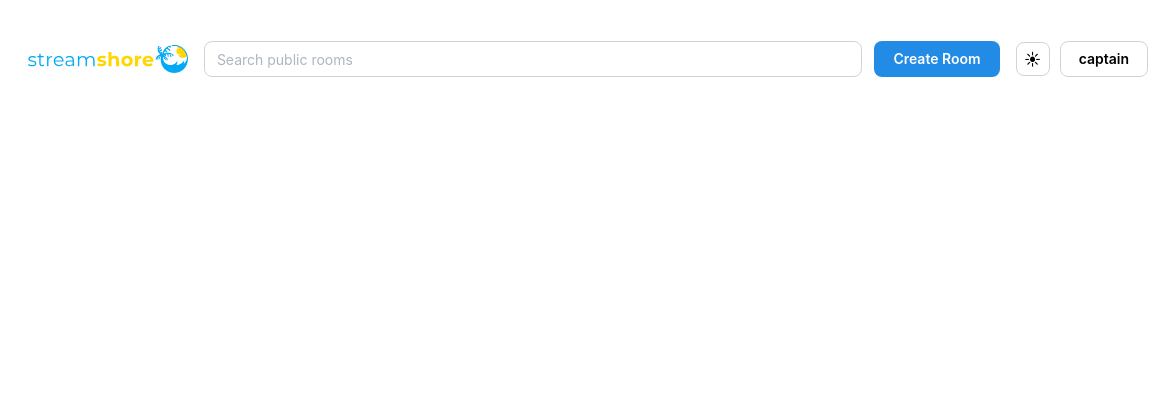
Test: PrimaryNavigation › resets the search field when a result is selected
Type "watch" into the search field labelled "Search public rooms" at (533, 59), box [204,41,862,77]
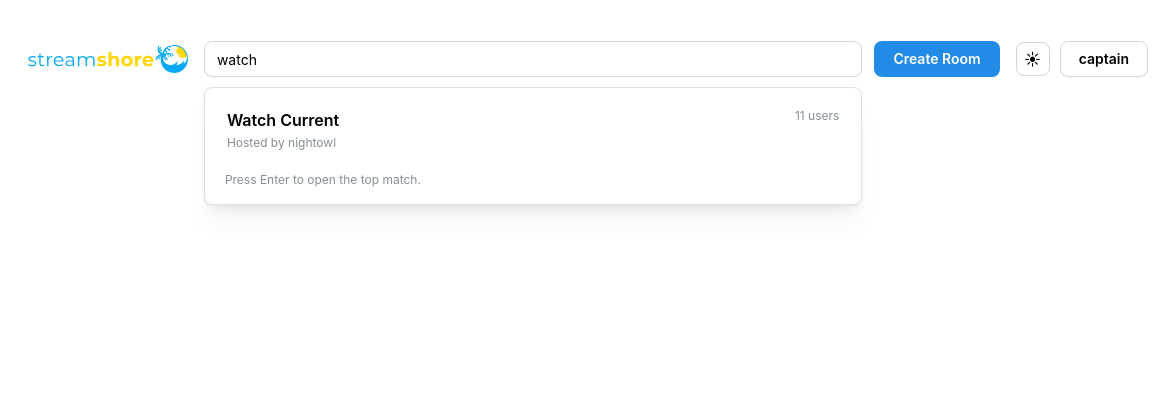
Click the link "Watch Current Hosted by nightowl 11 users" at (283, 120), box [215,98,851,162]
(page scrolled)
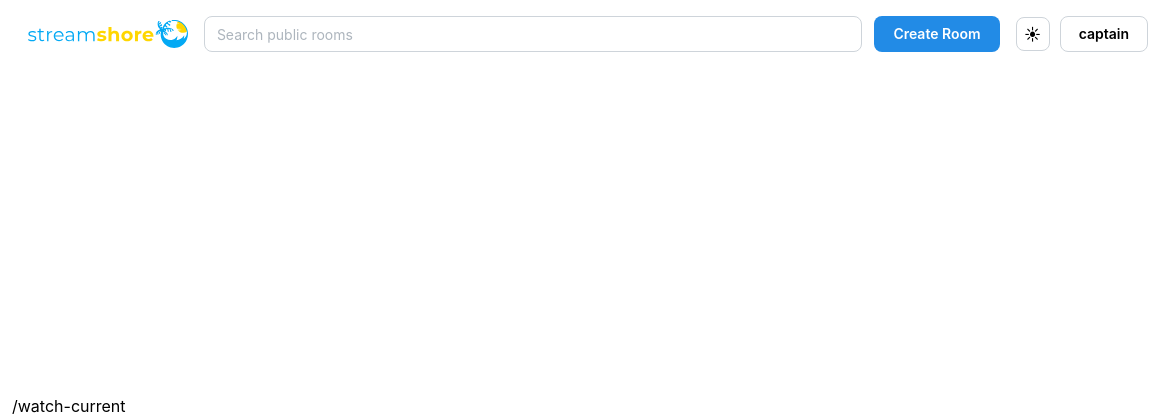
Expected: the search field labelled "Search public rooms" is empty, [204,16,862,52]
Expected: the text with test id "current-location" reads "/watch-current", [12,396,126,416]
